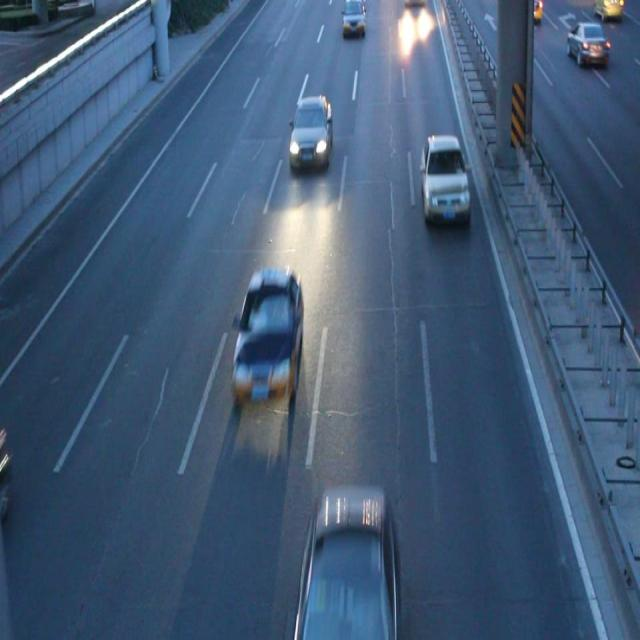car: (298, 495, 396, 640), (235, 270, 301, 400), (421, 137, 468, 220), (290, 99, 331, 164), (566, 22, 606, 61), (342, 2, 364, 34), (512, 1, 540, 23)
